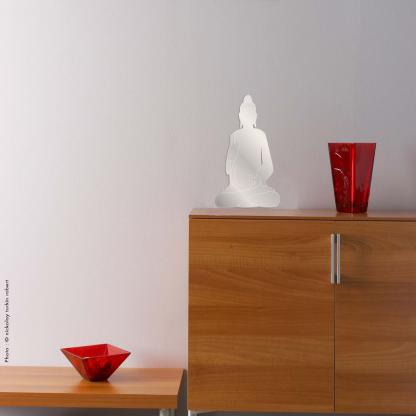vase: (327, 141, 376, 212)
